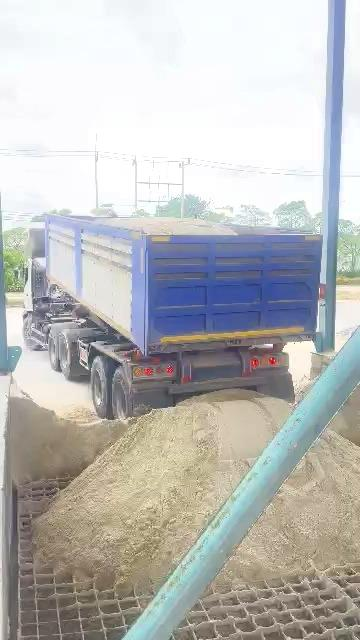sand: (35, 392, 291, 592), (220, 431, 360, 584), (10, 388, 126, 485), (94, 217, 237, 235), (331, 385, 360, 446), (296, 377, 317, 403)
